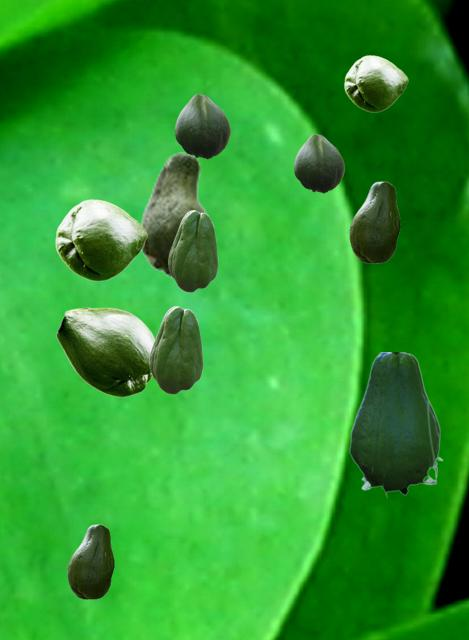sayote: (349, 352, 442, 497), (139, 152, 210, 278), (56, 307, 154, 396), (55, 199, 146, 280), (149, 306, 202, 393), (349, 181, 399, 262), (168, 210, 217, 291), (344, 55, 407, 111), (175, 94, 229, 158), (67, 524, 113, 598), (294, 134, 343, 192)
